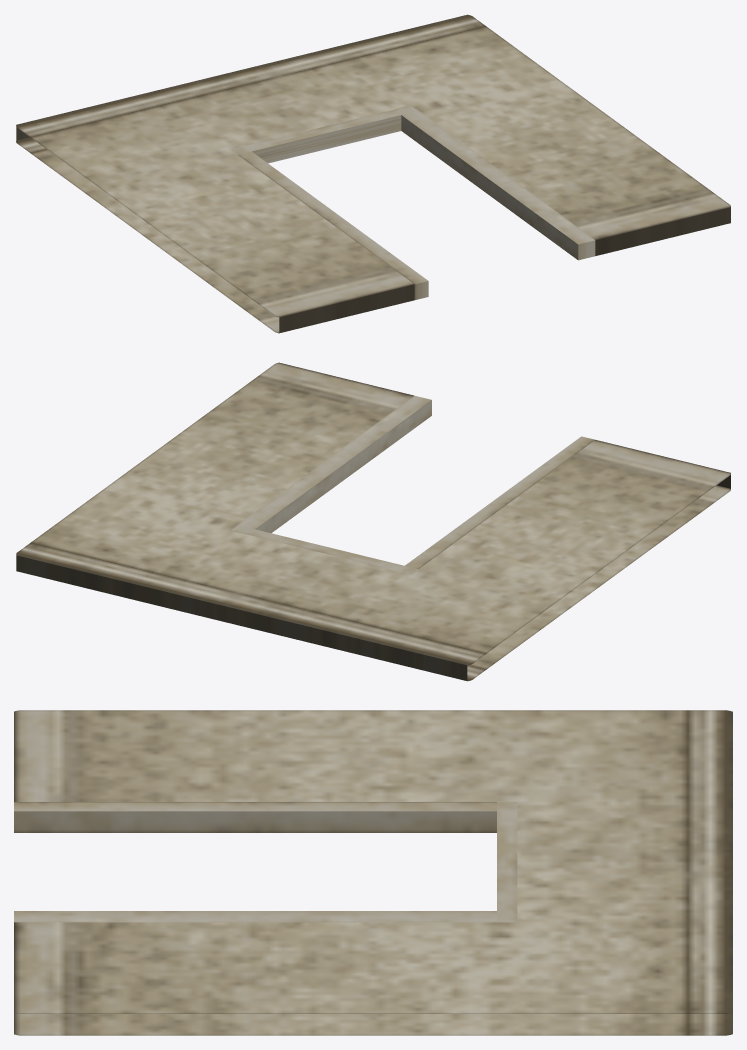
The model's file is SM_EC_House_Wall_DoorWay_3x3_0.fbx.
3 views of the same model, one above another, from view 1: azimuth 30°, elevation 25°; view 2: azimuth 150°, elevation 25°; view 3: azimuth 270°, elevation 25° (orthographic). The views are drawn at different scales.
Parts seen in each view (by area): view 1: SM_EC_House_Wall_DoorWay_3x3_0; view 2: SM_EC_House_Wall_DoorWay_3x3_0; view 3: SM_EC_House_Wall_DoorWay_3x3_0.
Part boxes in pixels (x1,y1,x2,y2): SM_EC_House_Wall_DoorWay_3x3_0: (16, 14, 730, 333); SM_EC_House_Wall_DoorWay_3x3_0: (16, 362, 730, 681); SM_EC_House_Wall_DoorWay_3x3_0: (14, 710, 732, 1035).
Bounding box in the file's own units: 3 × 3 × 0.1.
